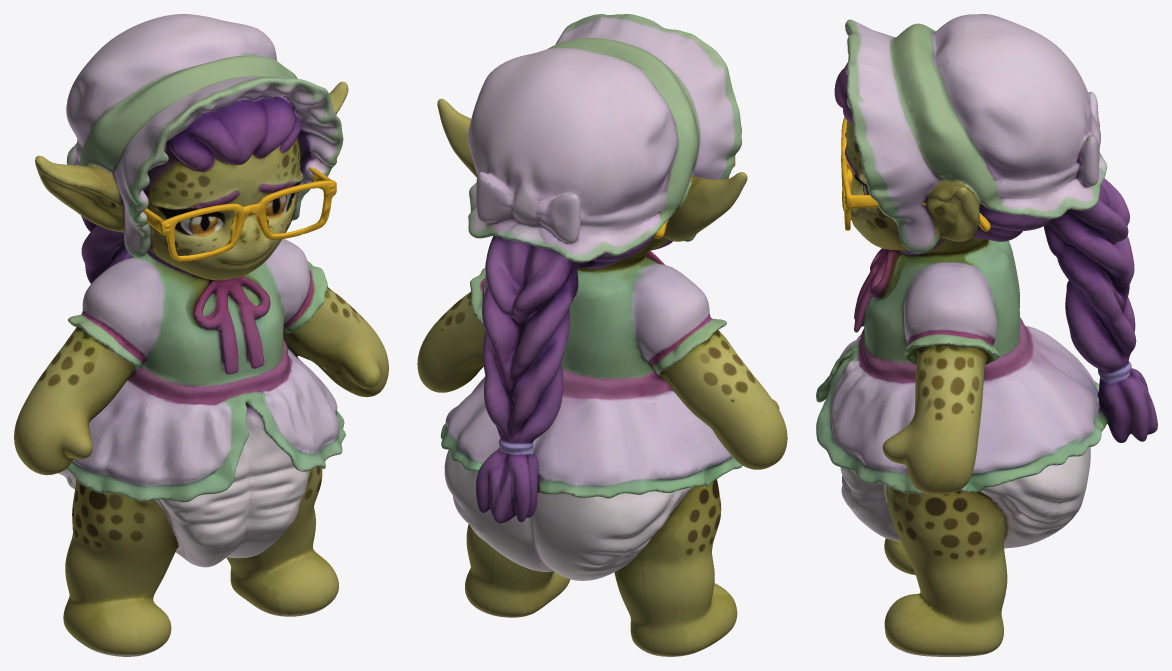
The model's file is lira.glb.
The picture shows the model from 3 angles, left to right: view 1: azimuth 30°, elevation 25°; view 2: azimuth 150°, elevation 25°; view 3: azimuth 270°, elevation 25°; orthographic projection.
Parts seen in each view (by area): view 1: temp_mesh.ply, Glasses; view 2: temp_mesh.ply; view 3: temp_mesh.ply, Glasses.
Boxes of the visible parts, bbox=[...] form: temp_mesh.ply: bbox=[14, 14, 388, 656]; Glasses: bbox=[143, 167, 336, 261]; temp_mesh.ply: bbox=[417, 14, 787, 656]; temp_mesh.ply: bbox=[816, 14, 1157, 656]; Glasses: bbox=[841, 117, 990, 231].
Size of the model in its own units: 4.27 by 6.52 by 3.5.
Materials: 2 (1 with a texture image).
